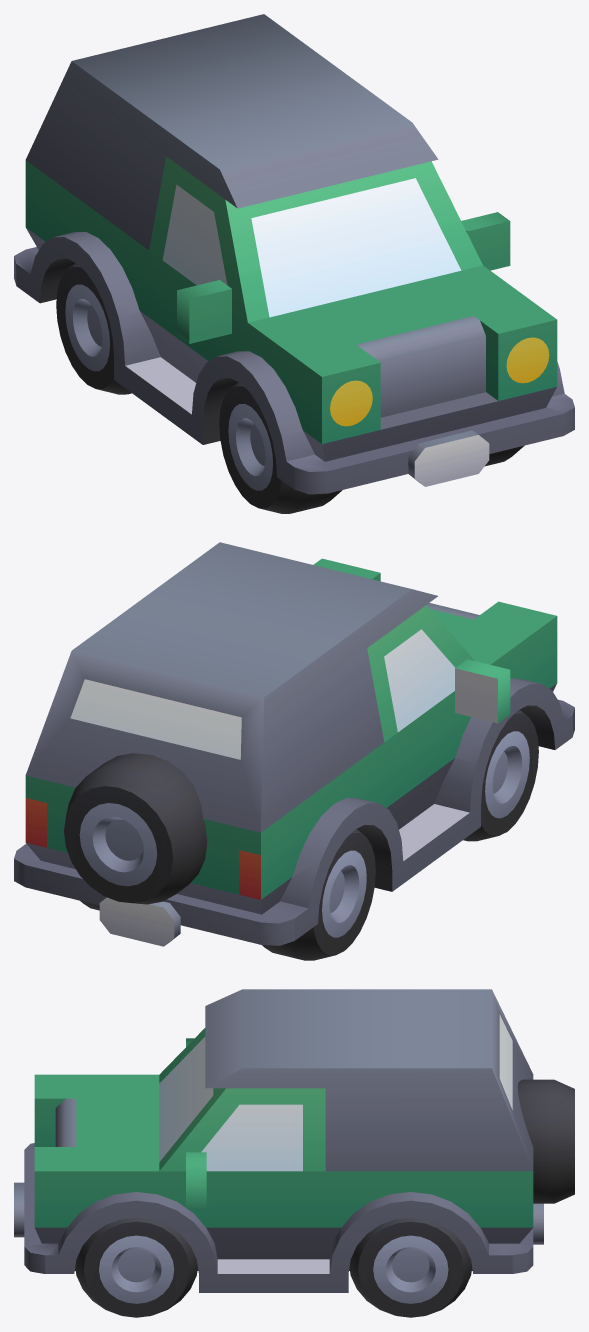
Rendered from k-car-suv.glb.
The picture shows the model from 3 angles, top to bottom: view 1: azimuth 30°, elevation 25°; view 2: azimuth 150°, elevation 25°; view 3: azimuth 270°, elevation 25°; orthographic projection. The views are drawn at different scales.
Parts seen in each view (by area): view 1: body, wheel-front-right, wheel-back-right; view 2: body, wheel-back, wheel-back-right, wheel-front-right; view 3: body, wheel-back-left, wheel-front-left, wheel-back.
Part boxes in pixels (x1,y1,x2,y2): body: [14, 14, 574, 494]; wheel-front-right: [219, 382, 342, 513]; wheel-back-right: [56, 262, 131, 394]; body: [14, 542, 574, 946]; wheel-back: [64, 753, 207, 904]; wheel-back-right: [262, 829, 375, 960]; wheel-front-right: [463, 709, 538, 841]; body: [14, 989, 543, 1292]; wheel-back-left: [349, 1217, 472, 1317]; wheel-front-left: [75, 1217, 197, 1317]; wheel-back: [517, 1079, 574, 1203].
Size of the model in its own units: 1.5 by 1.3 by 2.7.
Materials: 1 (1 with a texture image).
